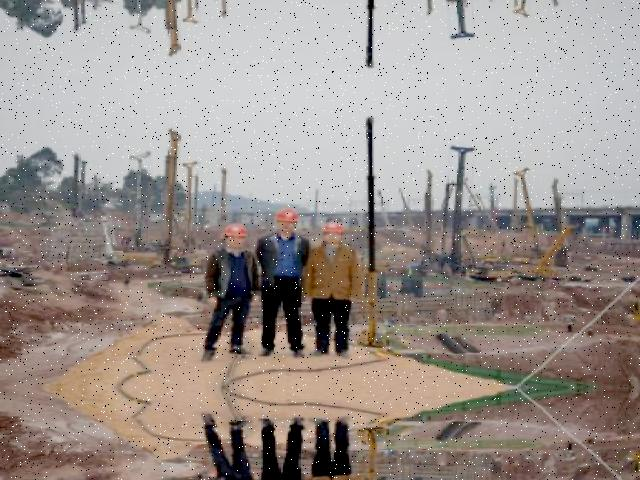Helmet: (270, 204, 301, 228), (215, 219, 248, 241), (317, 214, 345, 236)
